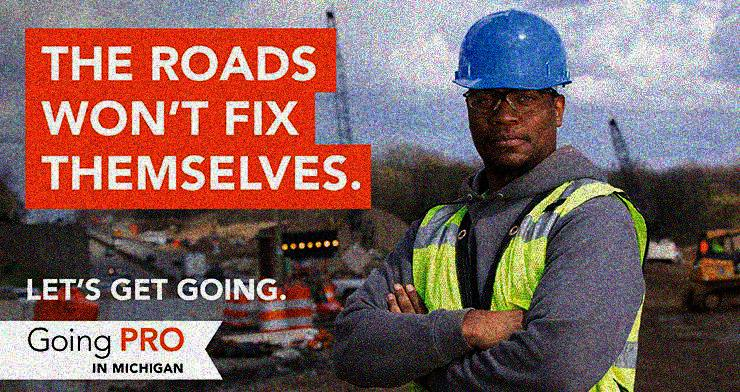helmet: (453, 7, 573, 164)
